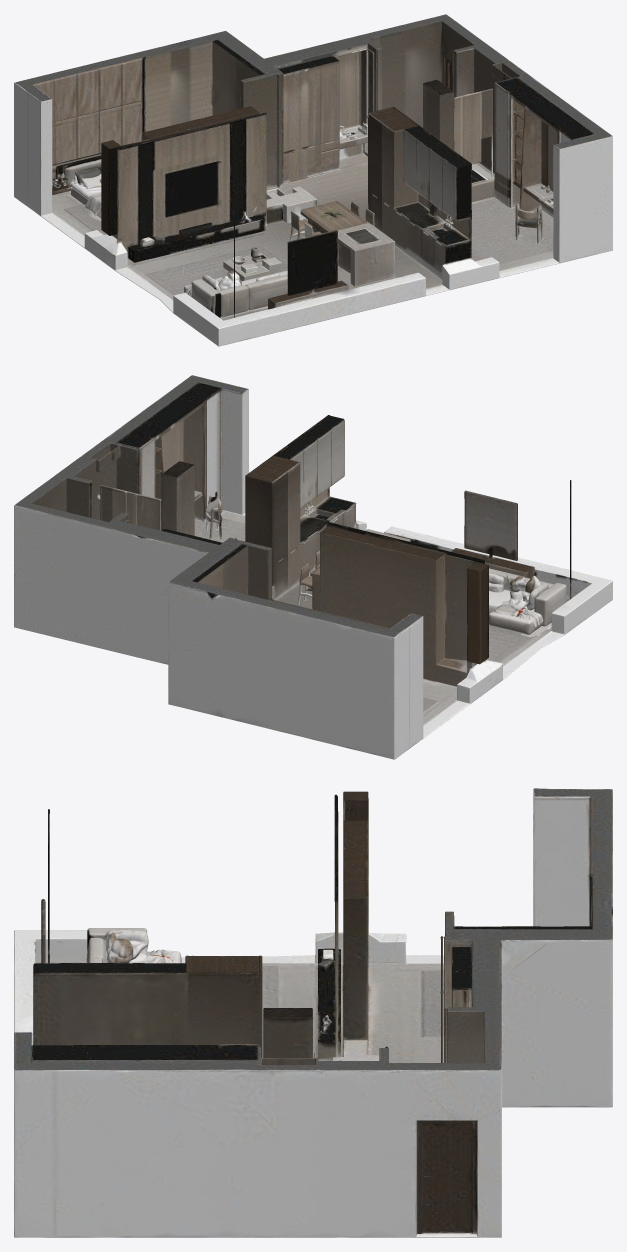
The model's file is floor_plan_9.glb.
3 views of the same model, one above another, from view 1: azimuth 30°, elevation 25°; view 2: azimuth 150°, elevation 25°; view 3: azimuth 270°, elevation 25° (orthographic). The views are drawn at different scales.
Bounding box in the file's own units: 1.9 × 0.5409 × 1.71.
Materials: 1 (1 with a texture image).
